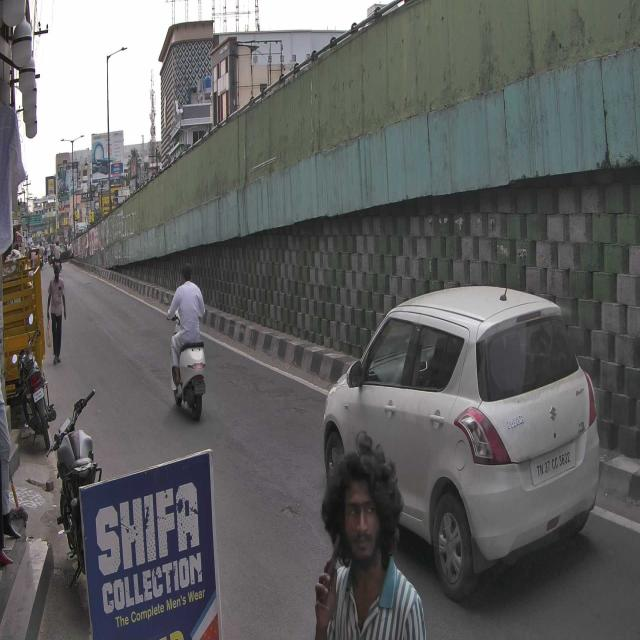single_rider: (162, 260, 210, 424)
